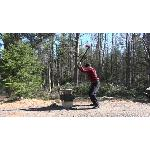Kapak: (72, 38, 94, 72)
